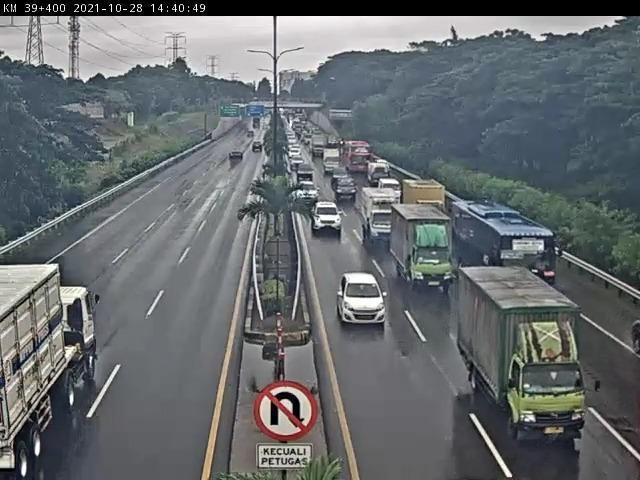bus: (450, 201, 558, 299)
car: (338, 274, 389, 329), (311, 200, 344, 231)
truck: (458, 265, 588, 442), (1, 262, 103, 480), (391, 203, 456, 292), (358, 186, 398, 241)
